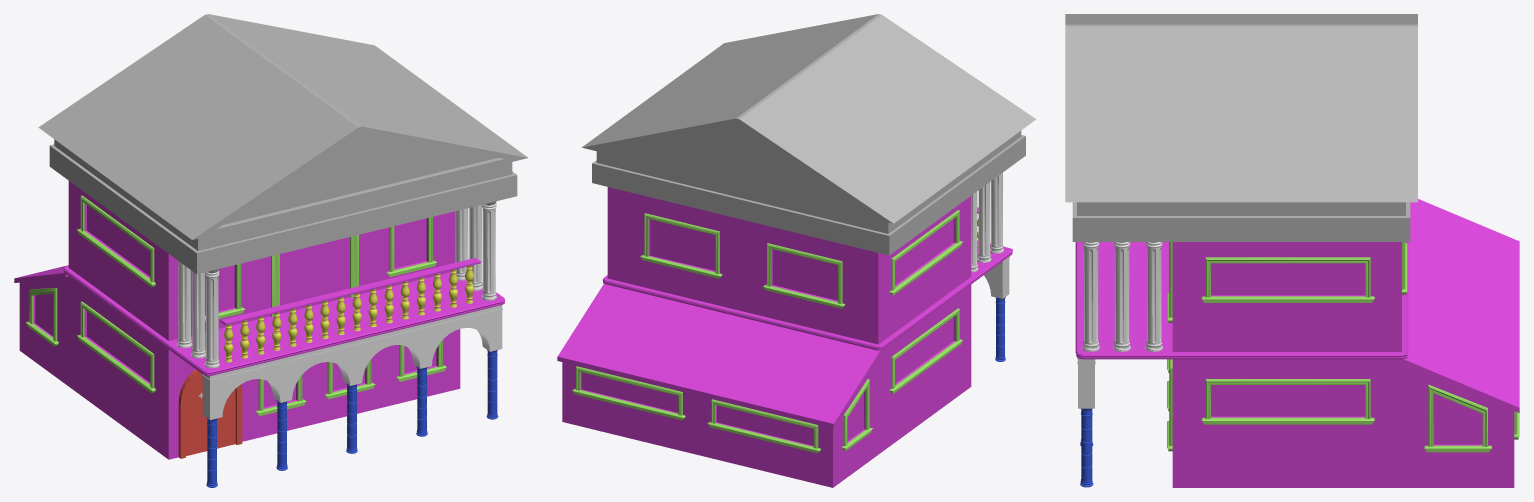
The model's file is casagran.fbx.
The picture shows the model from 3 angles, left to right: view 1: azimuth 30°, elevation 25°; view 2: azimuth 150°, elevation 25°; view 3: azimuth 270°, elevation 25°; orthographic projection. The views are drawn at different scales.
Visible parts, largest first — view 1: techo_casaGrande, casaGrande, arcos, ventanas, barana_pal.001, puerta_casaGran, barana_reposamanos, ColumnaArriba.002, ColumnaArriba.005, ColumnaArriba.001, ColumnaArriba.003, ColumnaArriba.006 (+6 smaller); view 2: casaGrande, techo_casaGrande, ventanas, ColumnaArriba.001, ColumnaArriba.002, arcos, columnaAbajo.001, ColumnaArriba.003; view 3: casaGrande, techo_casaGrande, ventanas, ColumnaArriba.005, ColumnaArriba.006, ColumnaArriba.004, columnaAbajo, arcos.
Part boxes in pixels (<box>): techo_casaGrande: <box>38,14,527,274</box>; casaGrande: <box>14,181,504,459</box>; arcos: <box>202,305,502,419</box>; ventanas: <box>25,195,446,415</box>; barana_pal.001: <box>224,265,473,362</box>; puerta_casaGran: <box>178,369,242,458</box>; barana_reposamanos: <box>220,258,480,325</box>; ColumnaArriba.002: <box>204,269,219,368</box>; ColumnaArriba.005: <box>481,201,496,300</box>; ColumnaArriba.001: <box>191,271,205,358</box>; ColumnaArriba.003: <box>177,261,192,348</box>; ColumnaArriba.006: <box>469,205,482,290</box>; casaGrande: <box>557,187,1012,487</box>; techo_casaGrande: <box>582,14,1036,255</box>; ventanas: <box>572,210,962,453</box>; ColumnaArriba.001: <box>977,182,991,262</box>; ColumnaArriba.002: <box>990,172,1003,253</box>; arcos: <box>984,256,1009,298</box>; columnaAbajo.001: <box>995,297,1005,361</box>; ColumnaArriba.003: <box>971,191,978,272</box>; casaGrande: <box>1075,199,1519,487</box>; techo_casaGrande: <box>1065,14,1417,241</box>; ventanas: <box>1167,242,1519,452</box>; ColumnaArriba.005: <box>1082,242,1099,351</box>; ColumnaArriba.006: <box>1113,242,1130,351</box>; ColumnaArriba.004: <box>1145,242,1162,351</box>; columnaAbajo: <box>1080,408,1093,487</box>; arcos: <box>1077,358,1095,408</box>.
Bounding box in the file's own units: 1097 × 1034 × 1119.
